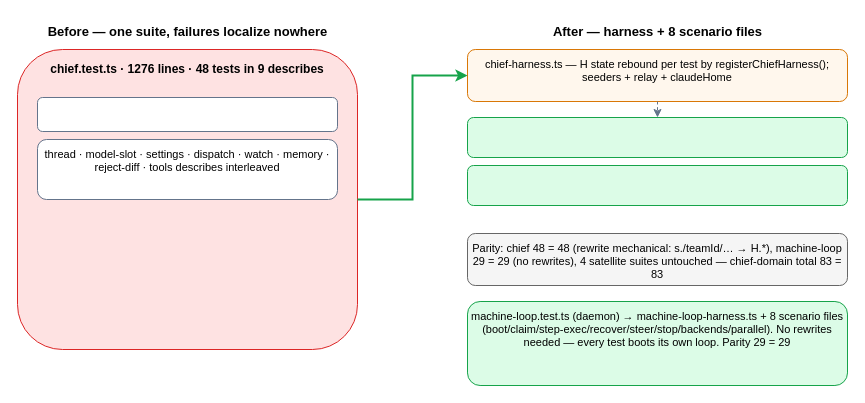
This 865x403 diagram has some shape labels left out. Here are the shapes that lost their labels. From the top down, the centre of each, then its label:
At point 187,114: "shared harness (state lets + seeders + relay)".
At point 657,137: "chief-thread · chief-model-slot · chief-settings · chief-dispatch".
At point 657,185: "chief-watch · chief-memory · chief-reject-diff · chief-tools".
